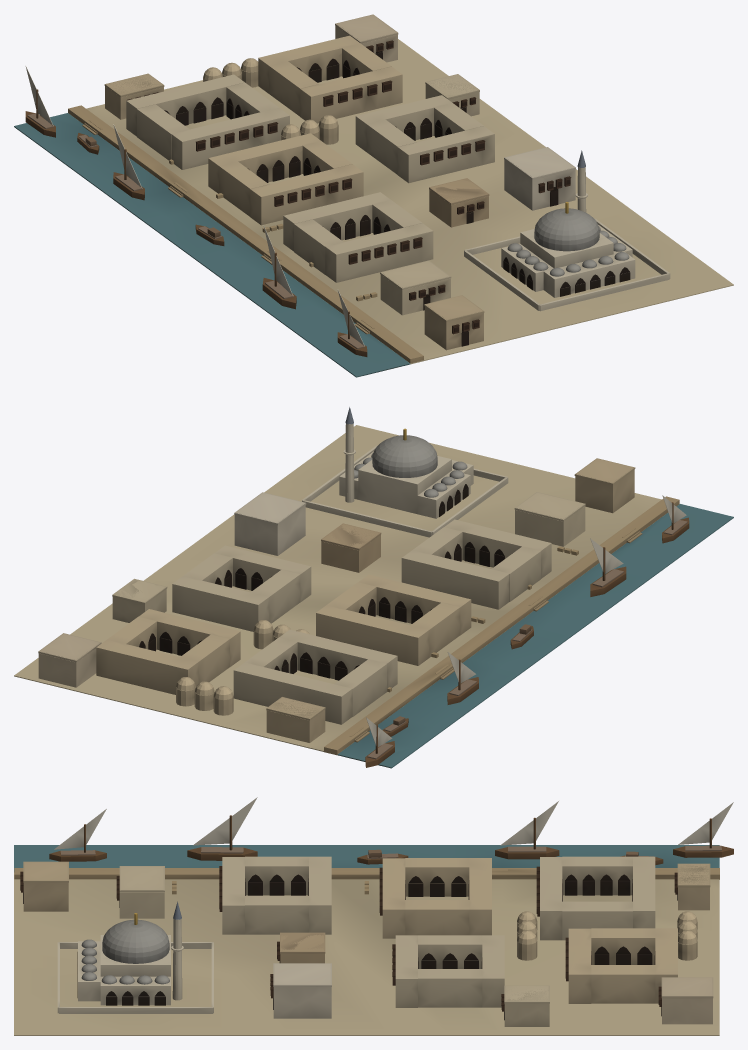
File: bulaq.glb
3 renders of one model, top to bottom at view 1: azimuth 30°, elevation 25°; view 2: azimuth 150°, elevation 25°; view 3: azimuth 270°, elevation 25°, orthographic. The views are drawn at different scales.
Parts seen in each view (by area): view 1: p2_wikalas, p0_ground, p3_mosque, p1_quay; view 2: p2_wikalas, p0_ground, p3_mosque, p1_quay; view 3: p0_ground, p2_wikalas, p3_mosque, p1_quay.
Boxes of the visible parts, x1,y1,x2,y2 form: p2_wikalas: (104,14,575,350); p0_ground: (14,39,733,377); p3_mosque: (25,65,670,356); p1_quay: (68,105,423,363); p2_wikalas: (38,458,635,742); p0_ground: (14,425,733,768); p3_mosque: (302,407,689,767); p1_quay: (324,496,679,755); p0_ground: (14,845,719,1035); p2_wikalas: (20,856,713,1026); p3_mosque: (49,797,733,1013); p1_quay: (14,868,719,879).
Bounding box in the file's own units: 140 × 33.83 × 224.
